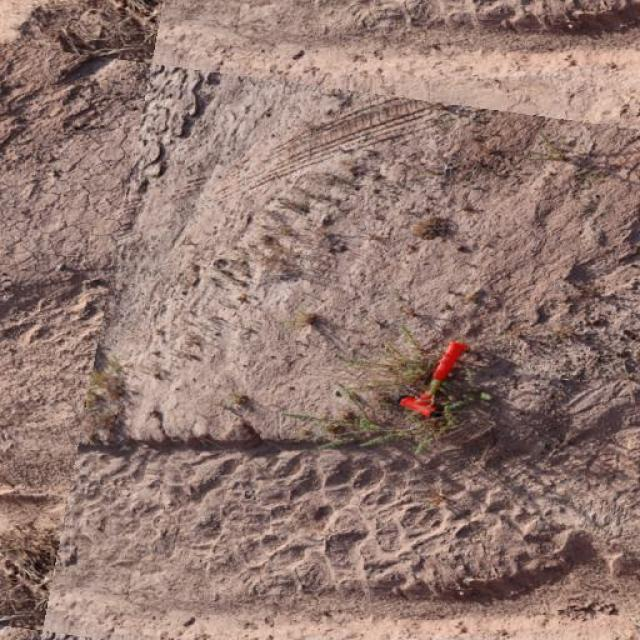mallet: (398, 338, 468, 418)
